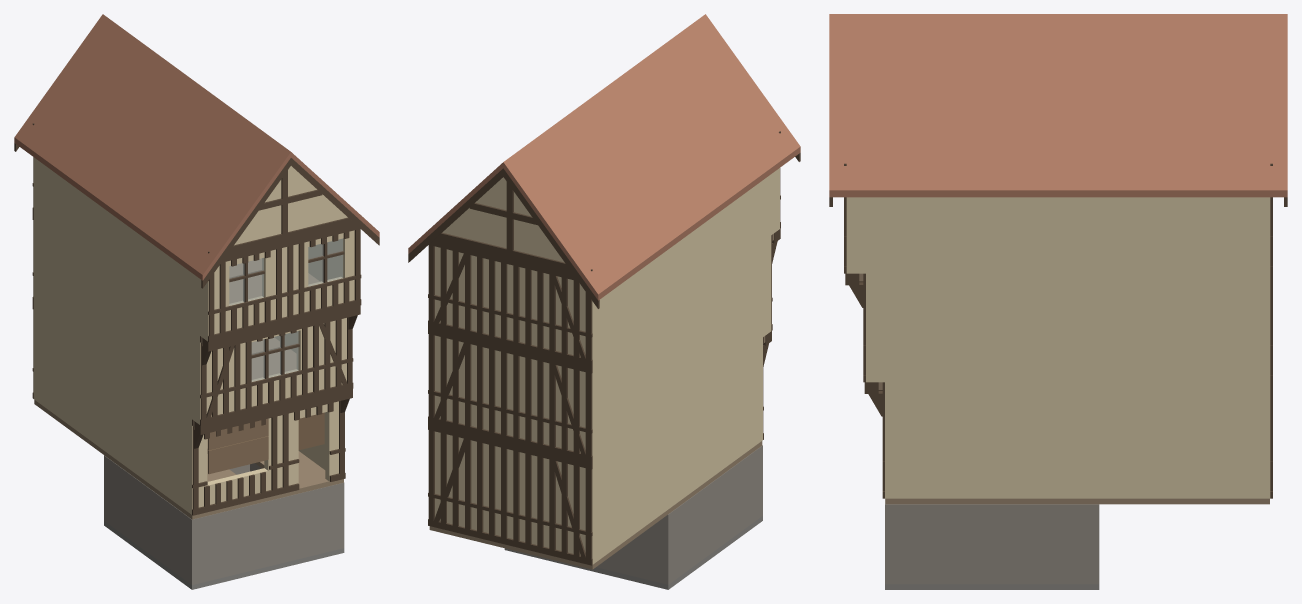
The model's file is shop-house-a-v2.glb.
3 views of the same model, side by side, from view 1: azimuth 30°, elevation 25°; view 2: azimuth 150°, elevation 25°; view 3: azimuth 270°, elevation 25° (orthographic). The views are drawn at different scales.
Visible parts, largest first — view 1: render, roof, timber, stone, floor, glass, shop-house-a-v2-shutter-02 leaf, flags, shop-house-a-v2-shutter-01 leaf, shop-house-a-v2-door-01 leaf; view 2: render, roof, timber, stone, floor, flags; view 3: render, roof, stone, floor, timber, flags.
Boxes of the visible parts, x1,y1,x2,y2 form: render: (33, 157, 354, 514); roof: (14, 14, 379, 280); timber: (14, 123, 379, 515); stone: (104, 455, 344, 584); floor: (34, 258, 343, 519); glass: (229, 238, 343, 381); shop-house-a-v2-shutter-02 leaf: (208, 436, 268, 474); flags: (104, 521, 344, 589); shop-house-a-v2-shutter-01 leaf: (208, 418, 268, 450); shop-house-a-v2-door-01 leaf: (298, 412, 324, 450); render: (435, 168, 779, 564); roof: (408, 14, 800, 300); timber: (408, 131, 800, 565); stone: (596, 445, 762, 584); floor: (429, 233, 773, 569); flags: (504, 516, 762, 589); render: (846, 197, 1270, 498); roof: (829, 14, 1287, 197); stone: (885, 498, 1099, 584); floor: (859, 273, 1269, 504); timber: (829, 163, 1287, 498); flags: (885, 584, 1099, 589).
Bounding box in the file's own units: 5.8 × 13.68 × 10.7.
